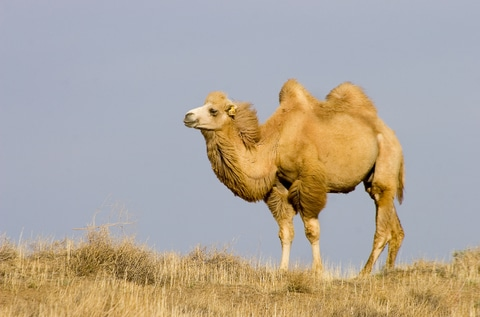camel: (189, 78, 407, 281)
